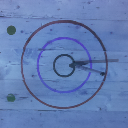Axe Tip: (75, 62, 88, 64)
